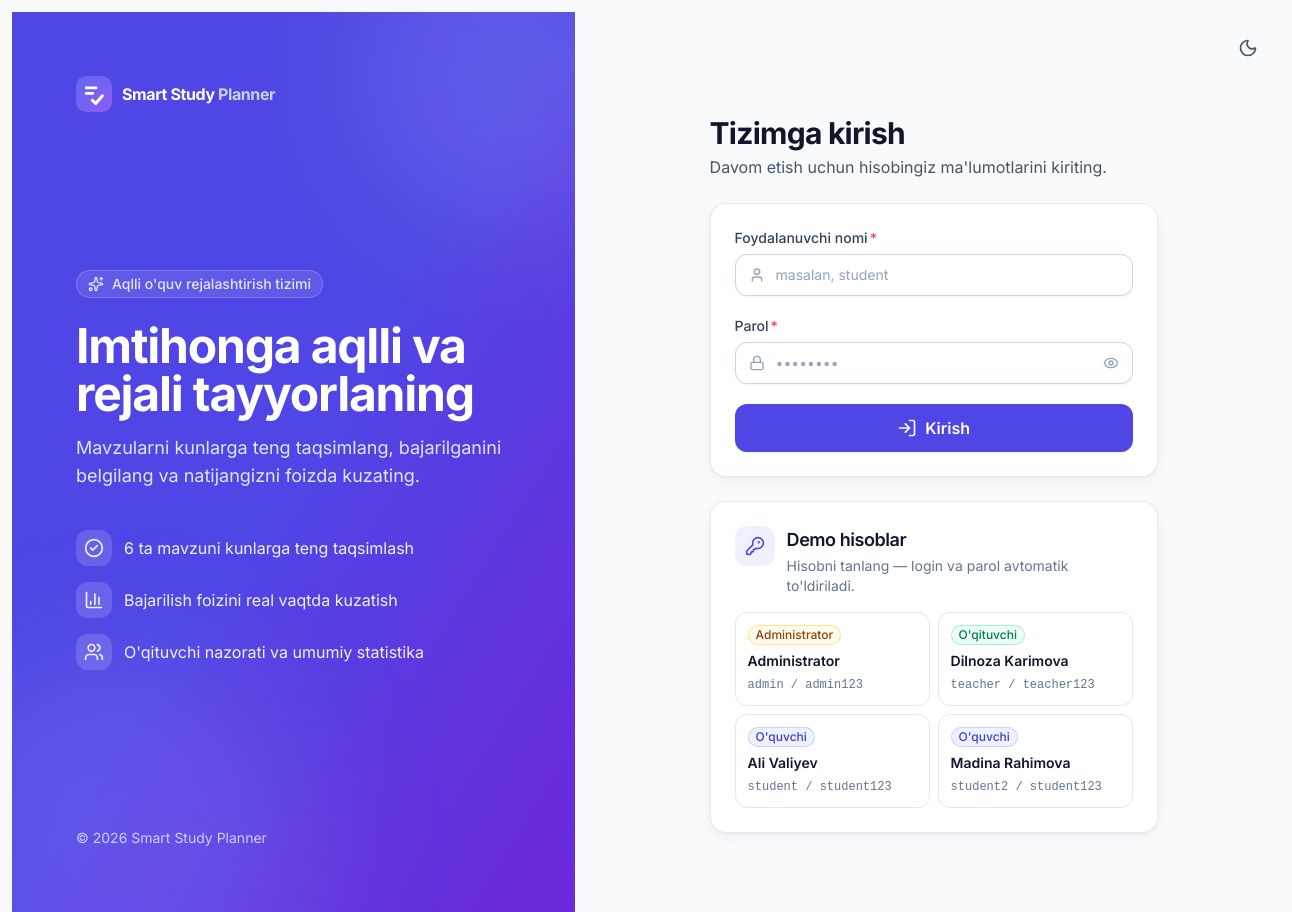
Test: LoginPage › logs in as teacher, stores the token and redirects to /teacher
The image size is (1292, 912).
Type "teacher" into the field labelled "Foydalanuvchi nomi*" at (934, 275), box [735,254,1133,296]
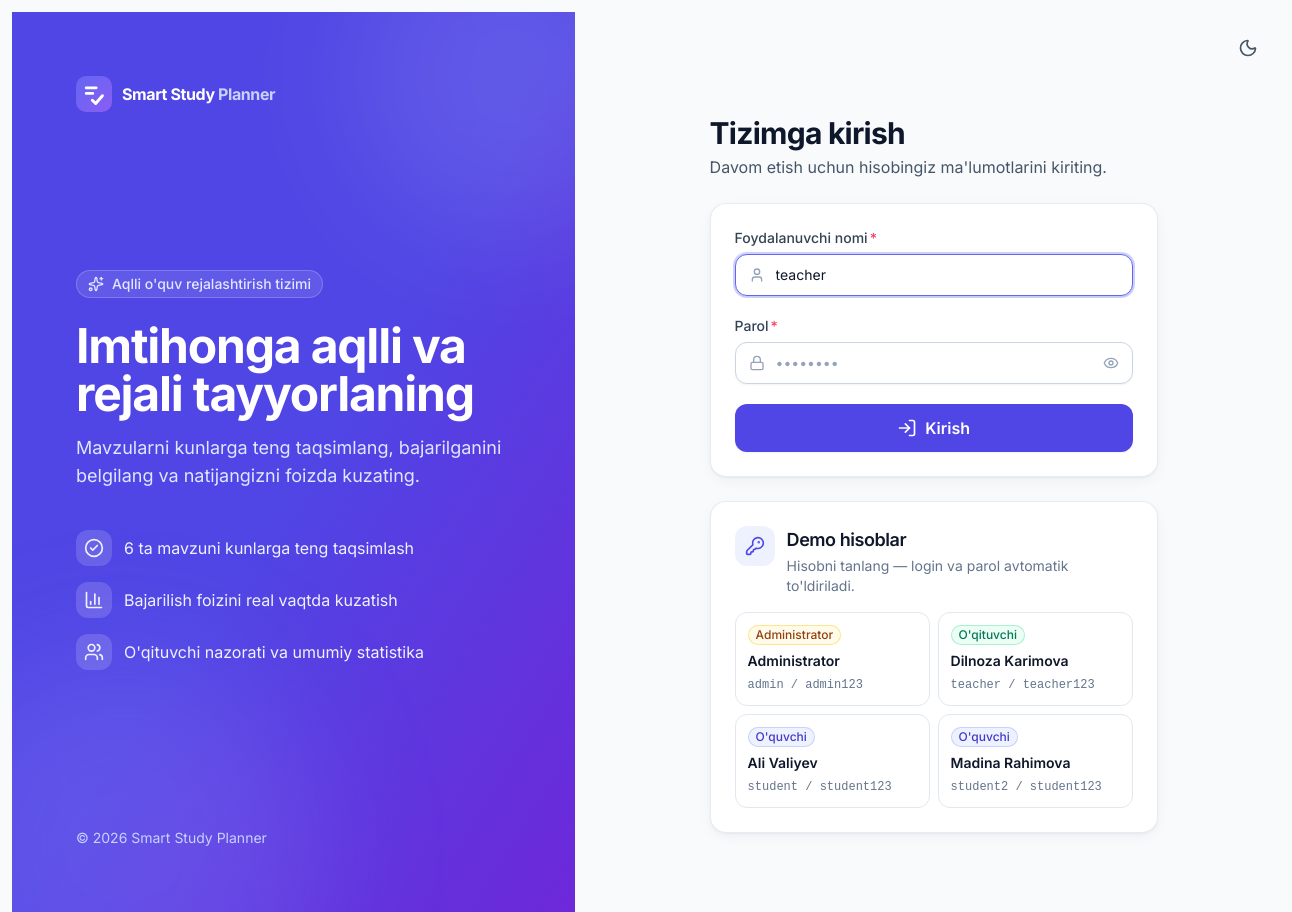
Type "secret123" into the password field labelled "Parol*" at (934, 363), box [735,342,1133,384]
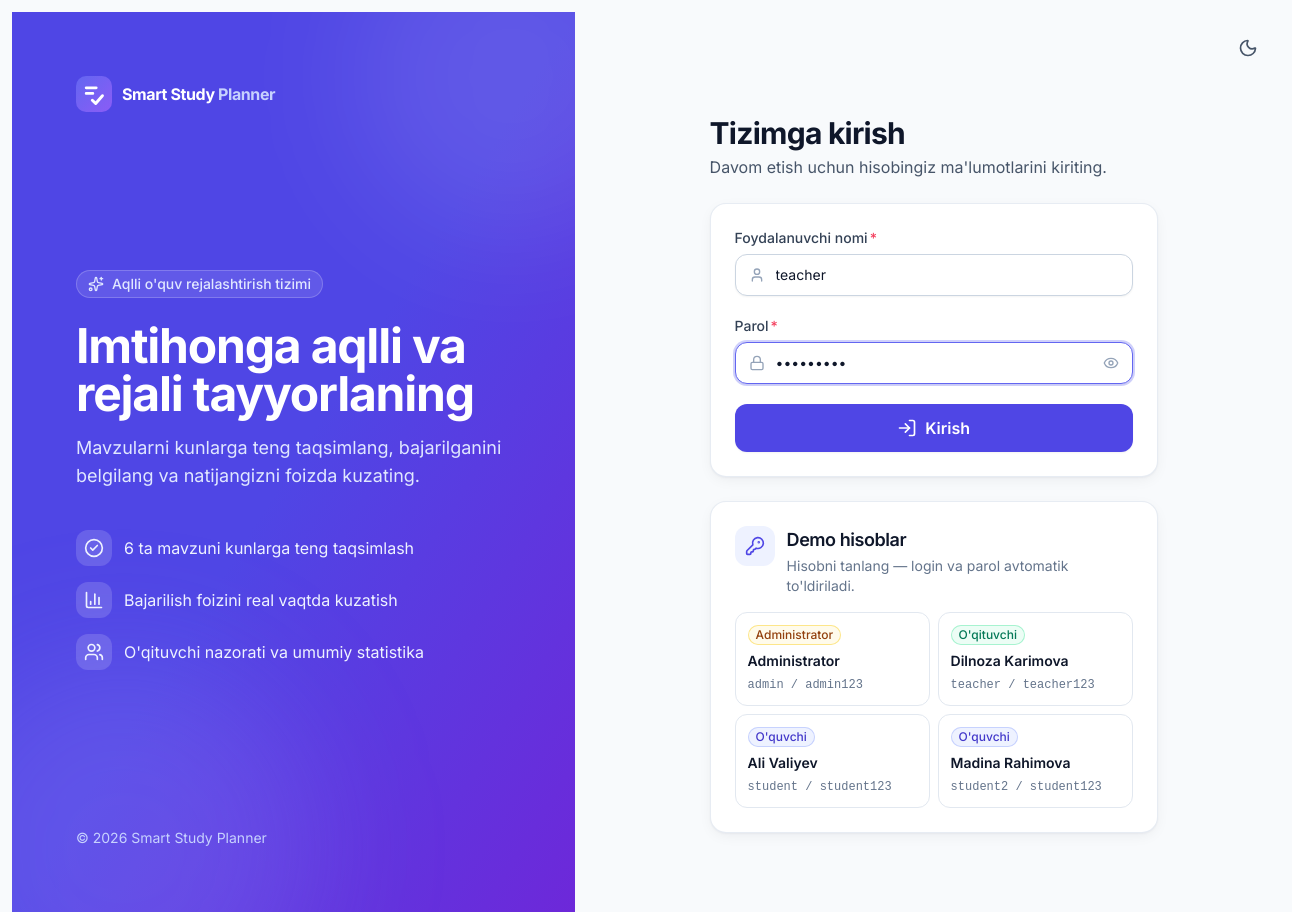
Click the button "Kirish" at (934, 428), box [735,404,1133,452]
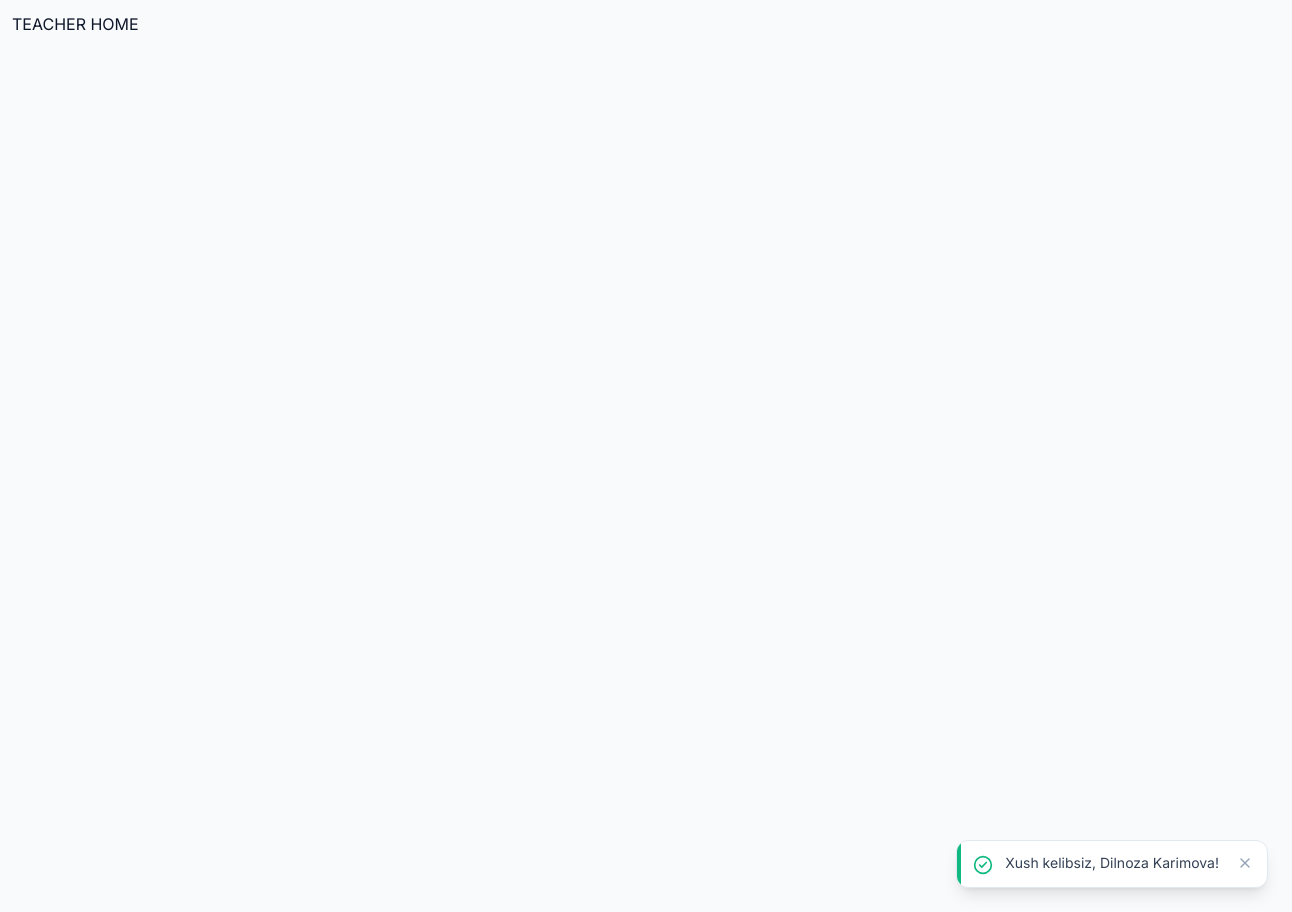
Check: the text "TEACHER HOME" is shown, box [12,14,139,34]
